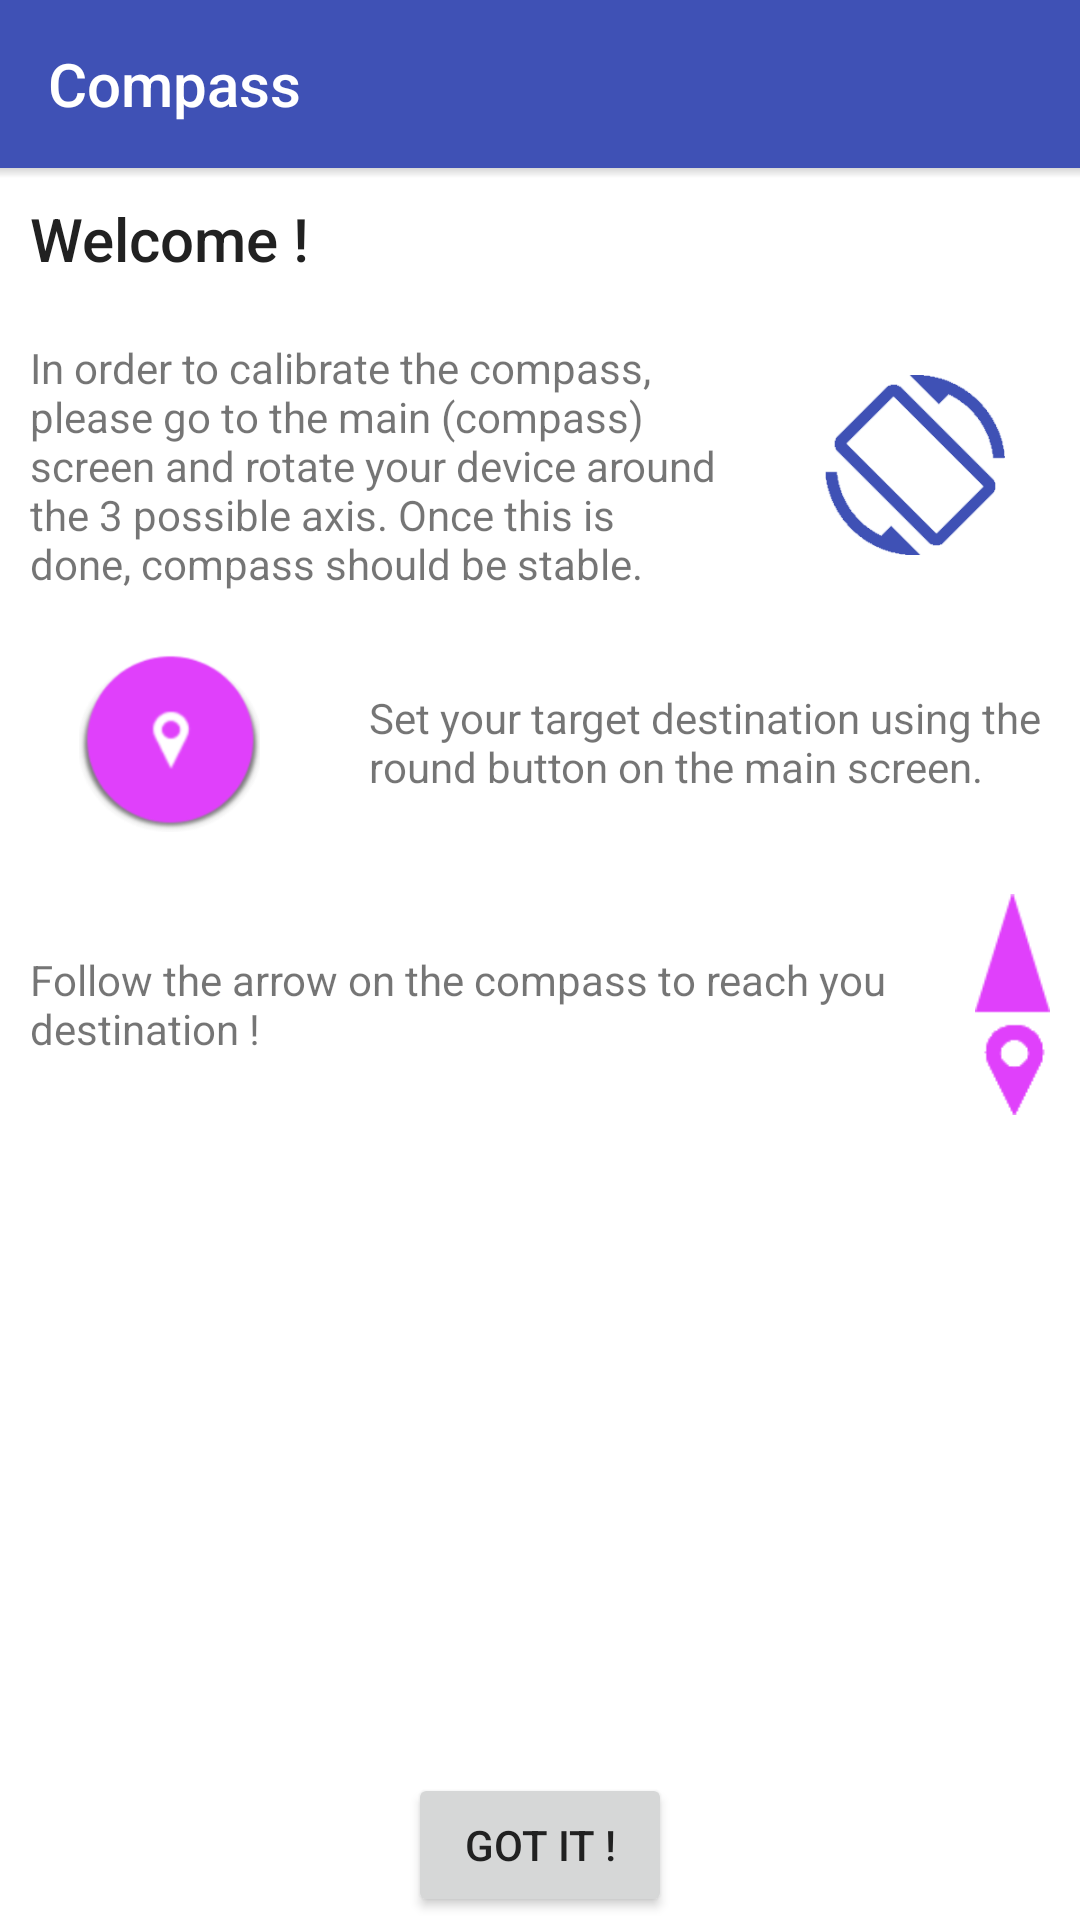

Point at icon controls on the screen. Image size 1080 × 1920, points as (x,y).
help arrow head: (1012,1004)
help dest: (170,742)
phone rotate: (915,465)
